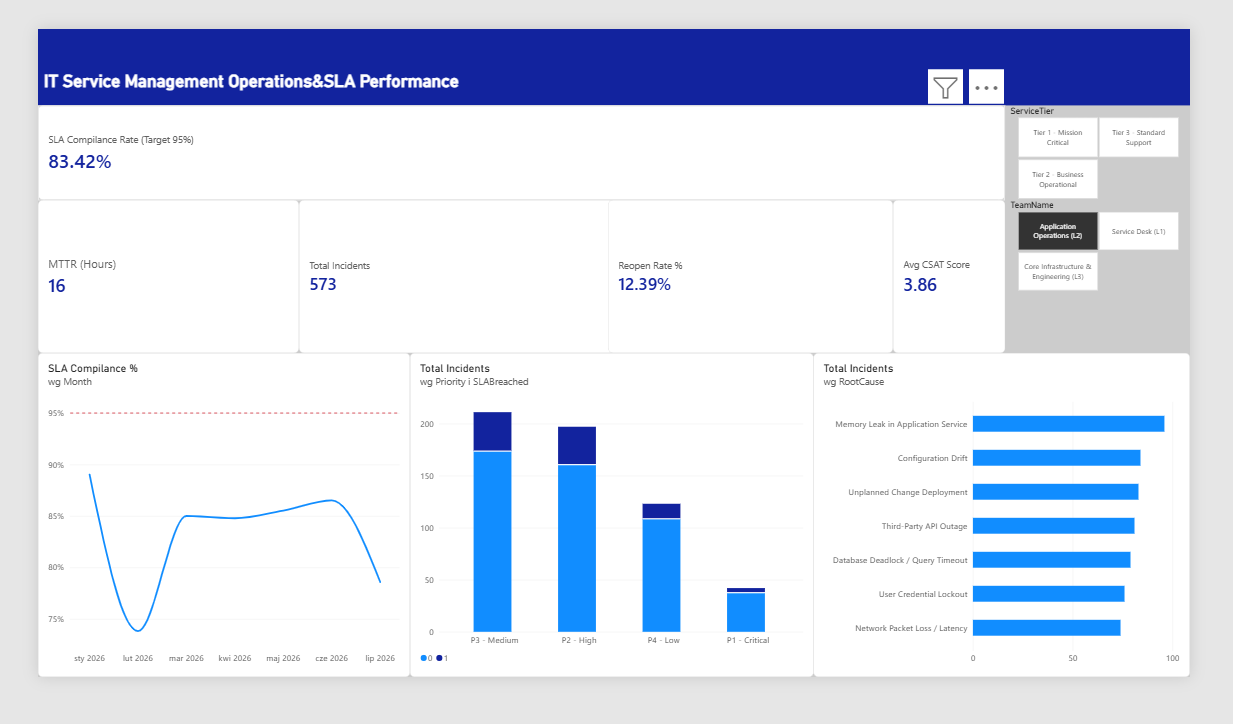

What the dashboard file says about the page in this screenshot:
{"tool":"powerbi","page":{"name":"Strona 1","canvas":[1920,1080],"ordinal":0},"visuals":[{"type":"shape","box":[0,0,1920,127.5],"z":0},{"type":"textbox","title":"IT Service Management Operations&SLA Performance","box":[9.1,70.4,1910.2,113.6],"z":1000},{"type":"cardVisual","fields":{"Data":["_Measures.SLA Compilance %"]},"box":[0,127.5,1612.5,157.5],"z":2000},{"type":"cardVisual","fields":{"Data":["_Measures.MTTR (Hours)"]},"box":[0,285,435,255],"z":3000},{"type":"cardVisual","fields":{"Data":["_Measures.Total Incidents"]},"box":[435,285,525,255],"z":4000},{"type":"cardVisual","fields":{"Data":["_Measures.Avg CSAT Score"]},"box":[1425,285,187.5,255],"z":5000},{"type":"cardVisual","fields":{"Data":["_Measures.Reopen Rate %"]},"box":[950,285,475,255],"z":6000},{"type":"lineChart","fields":{"Category":["Dim_Calendar.Month"],"Y":["_Measures.SLA Compilance %"]},"box":[0,540,620,540],"z":7000},{"type":"columnChart","fields":{"Category":["Fact_Incidents.Priority"],"Series":["Fact_Incidents.SLABreached"],"Y":["_Measures.Total Incidents"]},"box":[620,540,672.5,540],"z":8000},{"type":"clusteredBarChart","fields":{"Category":["Fact_Incidents.RootCause"],"Y":["_Measures.Total Incidents"]},"box":[1292.5,540,627.5,540],"z":9000},{"type":"slicer","fields":{"Values":["Dim_Services.ServiceTier"]},"box":[1612.5,127.5,307.5,157.5],"z":10000},{"type":"slicer","fields":{"Values":["Dim_Teams.TeamName"]},"box":[1612.5,285,307.5,152.5],"z":11000}]}

Visuals, with their boxes on the page's 1920x1080 design canvas (x1, y1, x2, y2). These are canvas units, not pixel positions in the 1233x724 screenshot, which may show the page scaled, cropped or inside an application window:
shape: <region>0, 0, 1920, 128</region>
"IT Service Management Operations&SLA Performance" textbox: <region>9, 70, 1919, 184</region>
cardVisual - _Measures.SLA Compilance %: <region>0, 128, 1612, 285</region>
cardVisual - _Measures.MTTR (Hours): <region>0, 285, 435, 540</region>
cardVisual - _Measures.Total Incidents: <region>435, 285, 960, 540</region>
cardVisual - _Measures.Avg CSAT Score: <region>1425, 285, 1612, 540</region>
cardVisual - _Measures.Reopen Rate %: <region>950, 285, 1425, 540</region>
lineChart - Dim_Calendar.Month x _Measures.SLA Compilance %: <region>0, 540, 620, 1080</region>
columnChart - Fact_Incidents.Priority x Fact_Incidents.SLABreached: <region>620, 540, 1292, 1080</region>
clusteredBarChart - Fact_Incidents.RootCause x _Measures.Total Incidents: <region>1292, 540, 1920, 1080</region>
slicer - Dim_Services.ServiceTier: <region>1612, 128, 1920, 285</region>
slicer - Dim_Teams.TeamName: <region>1612, 285, 1920, 438</region>
